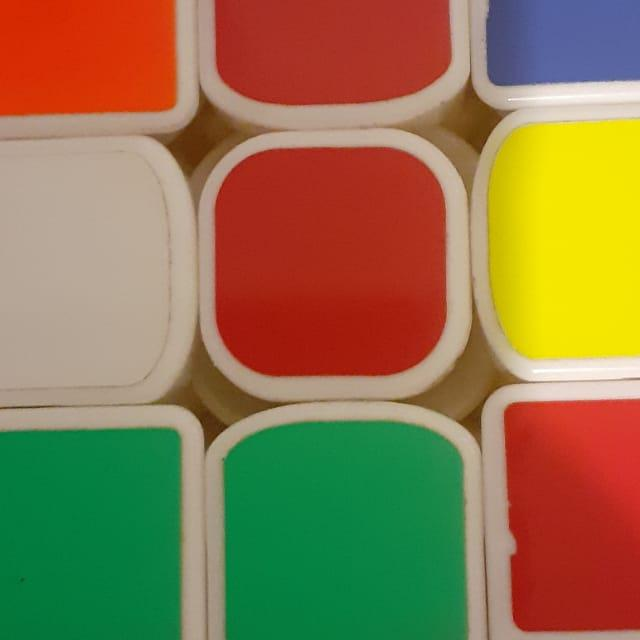Green: (217, 412, 460, 640), (0, 425, 190, 640)
Orange: (0, 0, 196, 121)
Red: (210, 143, 458, 383), (498, 397, 640, 640), (212, 0, 455, 109), (472, 0, 640, 84)
White: (0, 149, 176, 394)
Yellow: (489, 120, 640, 368)
